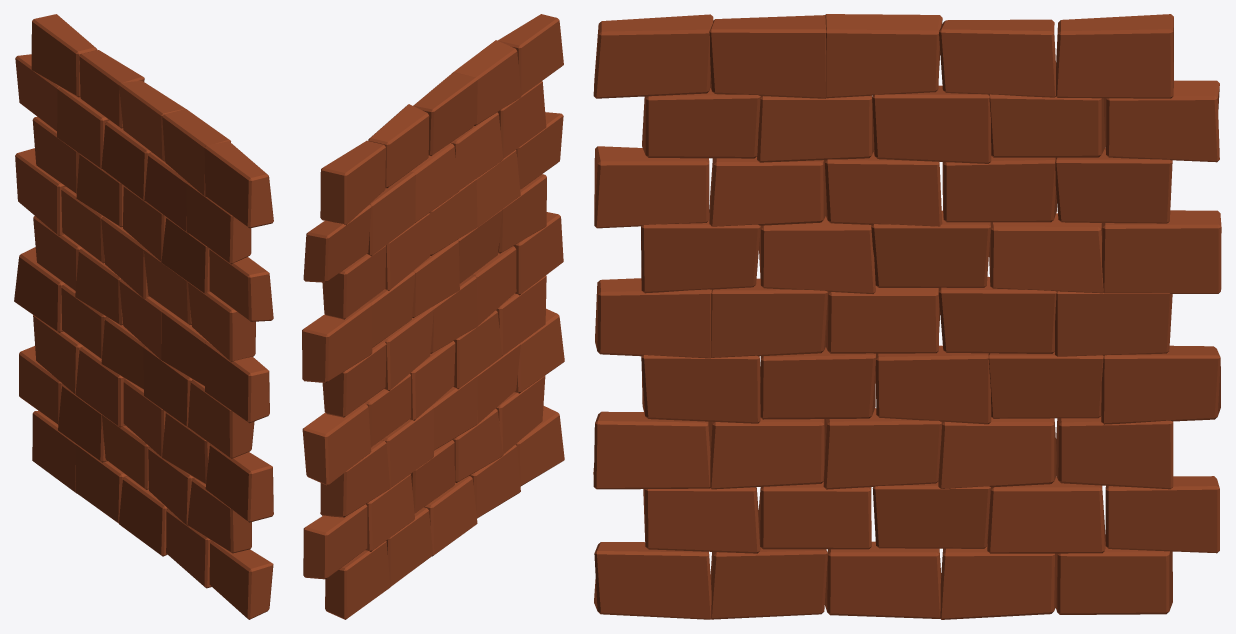
The model's file is BrickWall-RedBrick.fbx.
3 renders of one model, left to right at view 1: azimuth 30°, elevation 25°; view 2: azimuth 150°, elevation 25°; view 3: azimuth 270°, elevation 25°, orthographic. The views are drawn at different scales.
Visible parts, largest first — view 1: Cube; view 2: Cube; view 3: Cube.
Boxes of the visible parts, bbox=[...] form: Cube: bbox=[14, 14, 273, 619]; Cube: bbox=[302, 14, 564, 619]; Cube: bbox=[593, 14, 1221, 619].
Size of the model in its own units: 57.73 by 907 by 874.
